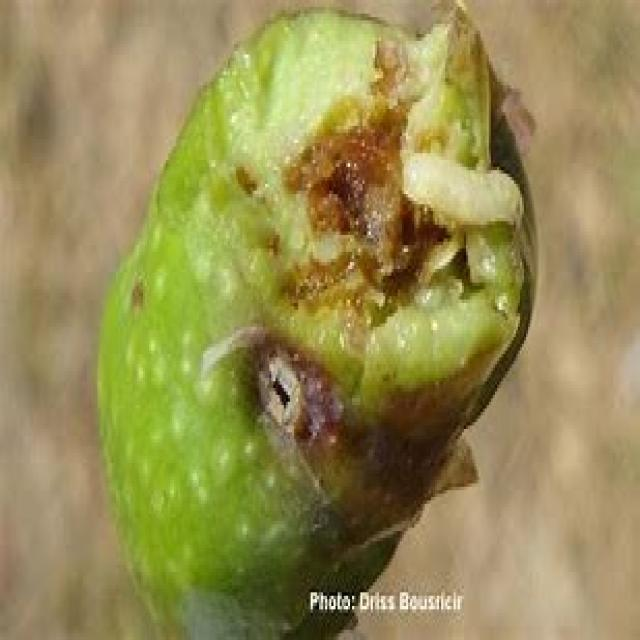Anthracnose: (98, 4, 530, 636)
